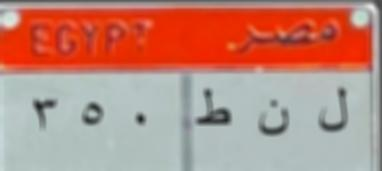0: (127, 104, 152, 135)
3: (30, 95, 60, 134)
5: (78, 98, 108, 134)
Taa: (191, 84, 234, 134)
laam: (314, 82, 352, 142)
noon: (256, 99, 292, 143)
